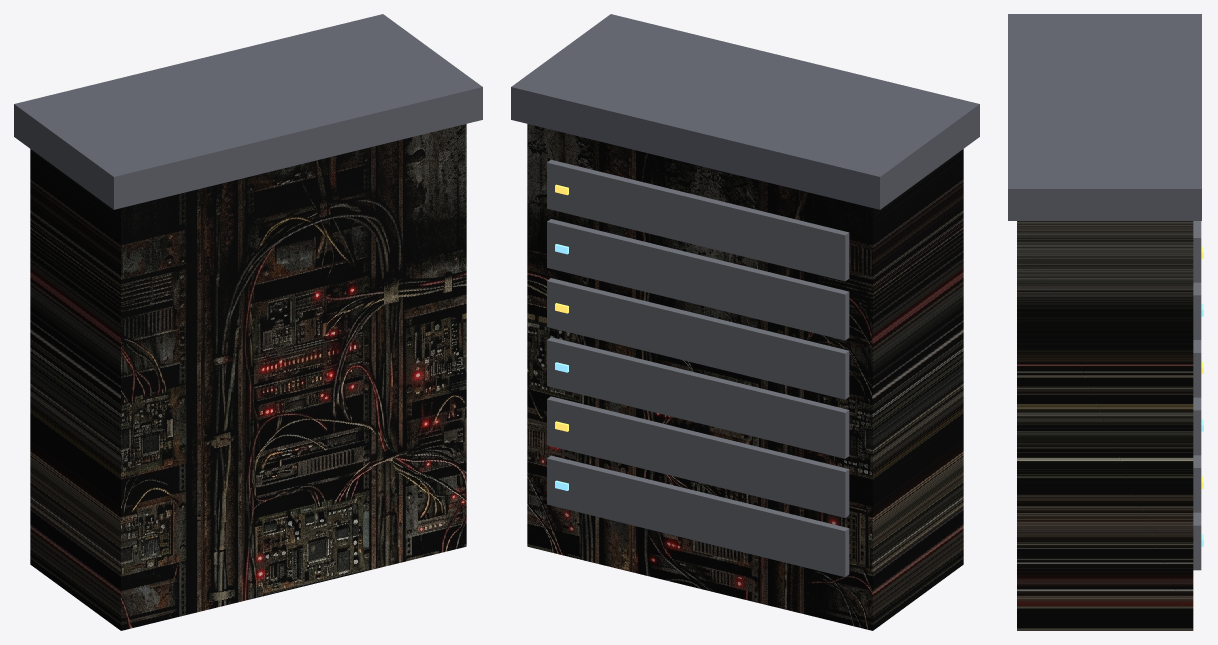
File: mainframe_bank.glb
3 renders of one model, left to right at view 1: azimuth 30°, elevation 25°; view 2: azimuth 150°, elevation 25°; view 3: azimuth 270°, elevation 25°, orthographic. The views are drawn at different scales.
Visible parts, largest first — view 1: MainframeBank; view 2: MainframeBank; view 3: MainframeBank.
Boxes of the visible parts, x1,y1,x2,y2 form: MainframeBank: (14,14,482,630); MainframeBank: (511,14,979,630); MainframeBank: (1008,14,1203,630).
Size of the model in its own units: 2.35 by 2.8 by 1.11.
5 materials, 1 textured.
